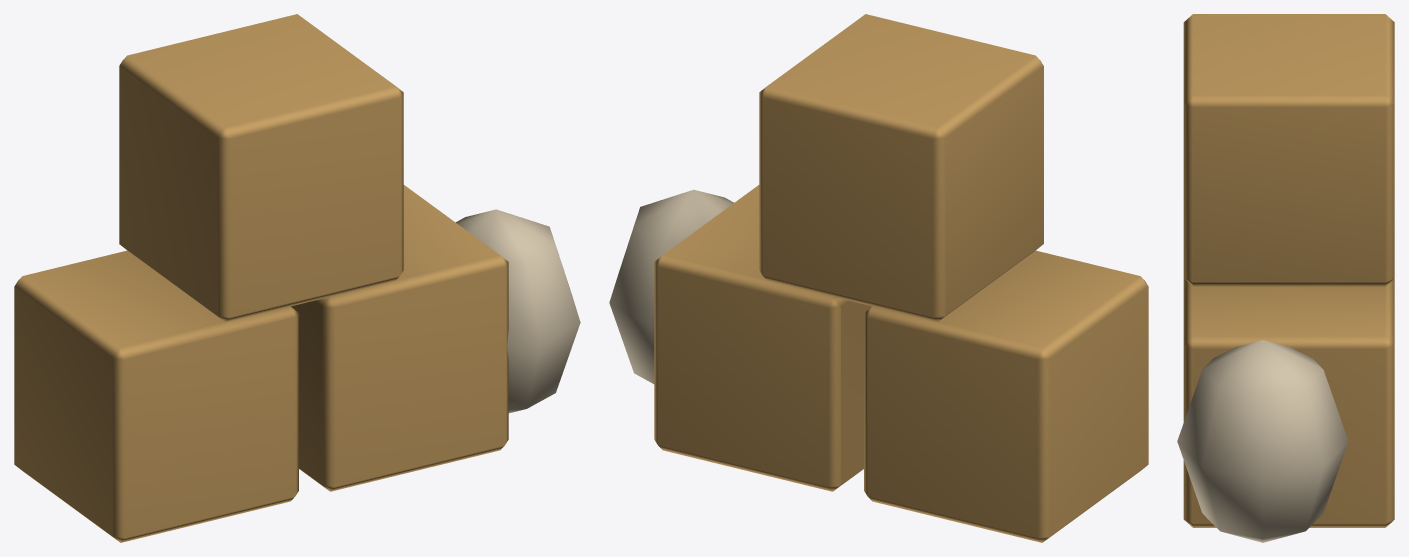
File: crate_stack.glb
3 views of the same model, side by side, from view 1: azimuth 30°, elevation 25°; view 2: azimuth 150°, elevation 25°; view 3: azimuth 270°, elevation 25° (orthographic).
Parts seen in each view (by area): view 1: crate_stack; view 2: crate_stack; view 3: crate_stack.
Boxes of the visible parts, box(x1,y1,x2,y2) form: crate_stack: box(14, 14, 580, 542); crate_stack: box(609, 14, 1148, 542); crate_stack: box(1177, 14, 1394, 542).
Bounding box in the file's own units: 2.12 × 1.6 × 0.825.
